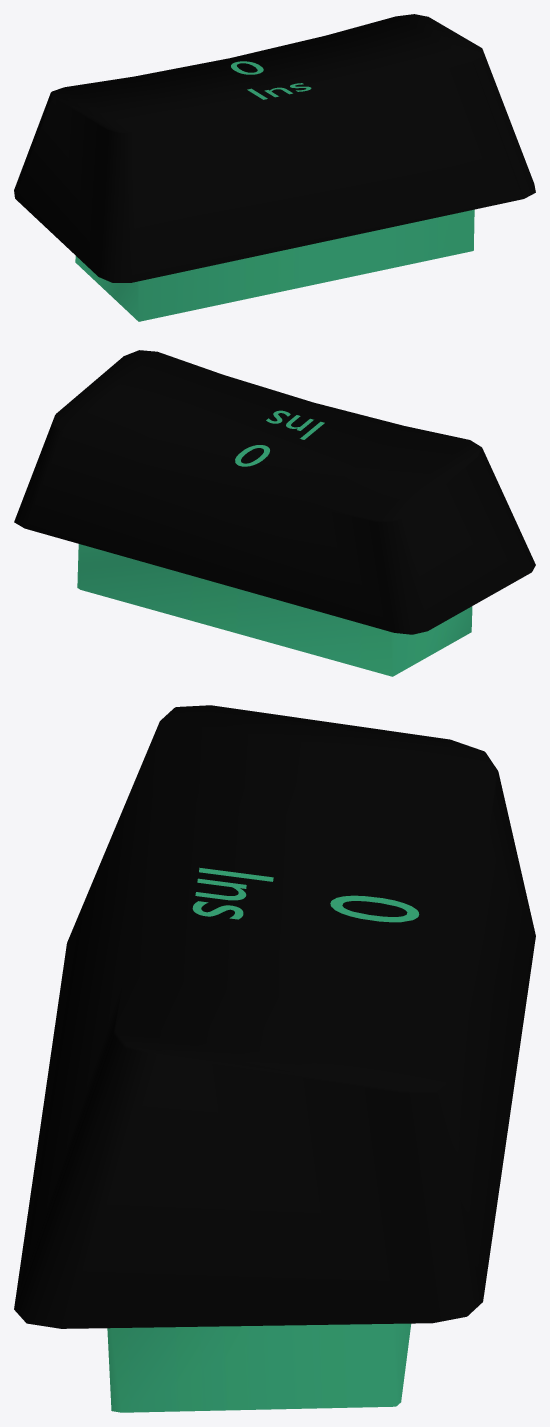
File: key_o_int-Chi8_HMU.glb
The picture shows the model from 3 angles, top to bottom: view 1: azimuth 30°, elevation 25°; view 2: azimuth 150°, elevation 25°; view 3: azimuth 270°, elevation 25°; orthographic projection. The views are drawn at different scales.
Parts seen in each view (by area): view 1: StudyShelf_1178; view 2: StudyShelf_1178; view 3: StudyShelf_1178.
Part boxes in pixels (x1,y1,x2,y2): StudyShelf_1178: (14, 14, 535, 321); StudyShelf_1178: (14, 350, 535, 676); StudyShelf_1178: (14, 705, 535, 1412).
Size of the model in its own units: 8.76 by 3.72 by 4.62.
Materials: 3 (2 with a texture image).
